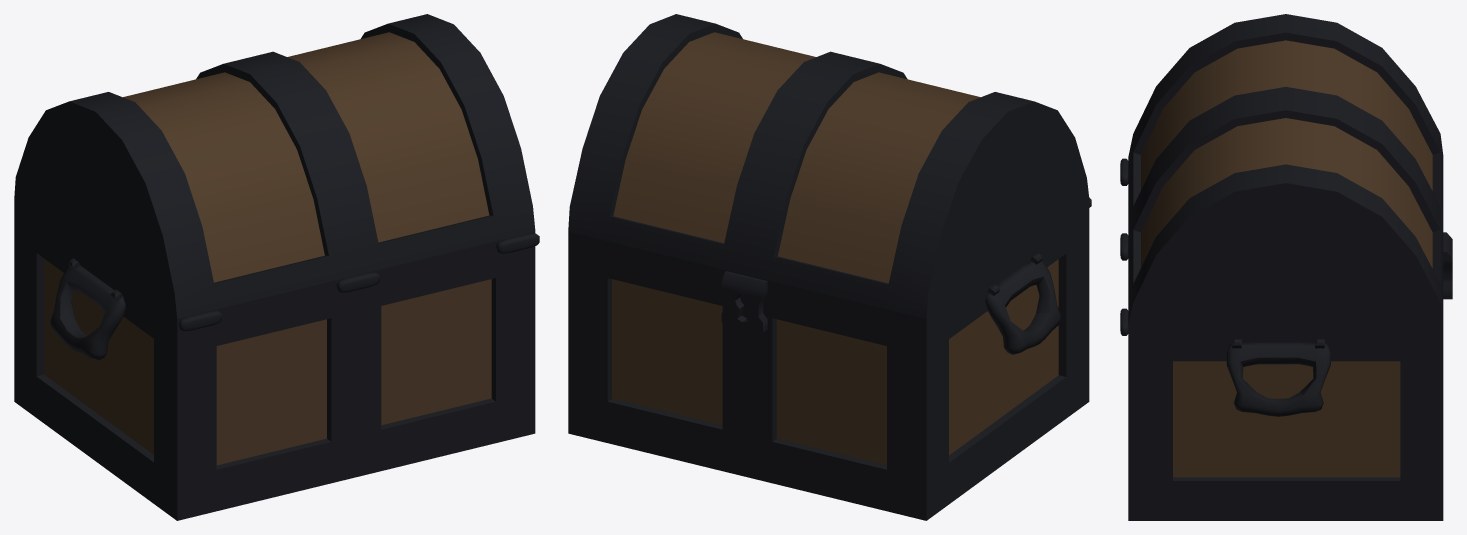
The model's file is ChestNew.FBX.
3 views of the same model, side by side, from view 1: azimuth 30°, elevation 25°; view 2: azimuth 150°, elevation 25°; view 3: azimuth 270°, elevation 25° (orthographic). The views are drawn at different scales.
Visible parts, largest first — view 1: Object001, Cylinder001, Details; view 2: Object001, Cylinder001, Details; view 3: Object001, Cylinder001, Details.
Boxes of the visible parts, bbox=[...] form: Object001: bbox=[14, 14, 535, 318]; Cylinder001: bbox=[14, 200, 535, 520]; Details: bbox=[50, 233, 539, 359]; Object001: bbox=[568, 14, 1089, 318]; Cylinder001: bbox=[568, 200, 1089, 520]; Details: bbox=[721, 197, 1091, 354]; Object001: bbox=[1128, 14, 1443, 325]; Cylinder001: bbox=[1128, 325, 1443, 520]; Details: bbox=[1120, 158, 1452, 416].
Bounding box in the file's own units: 27.35 × 21.88 × 19.5.
